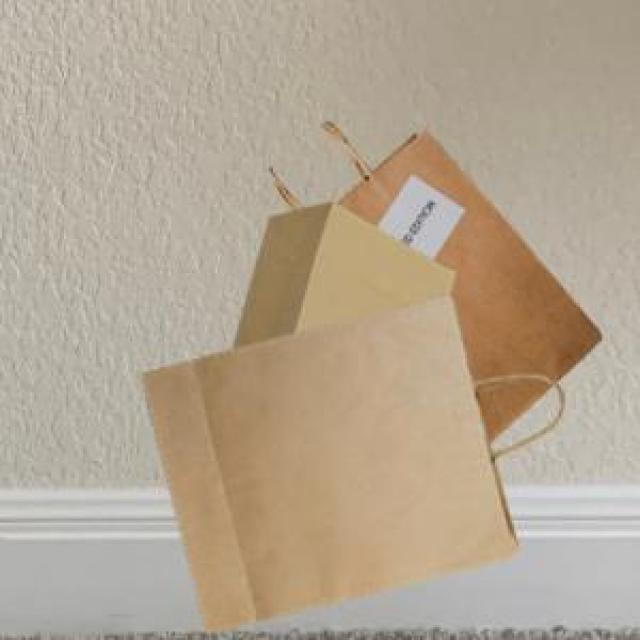paper: (139, 292, 559, 629), (265, 117, 597, 440), (228, 198, 450, 346)
